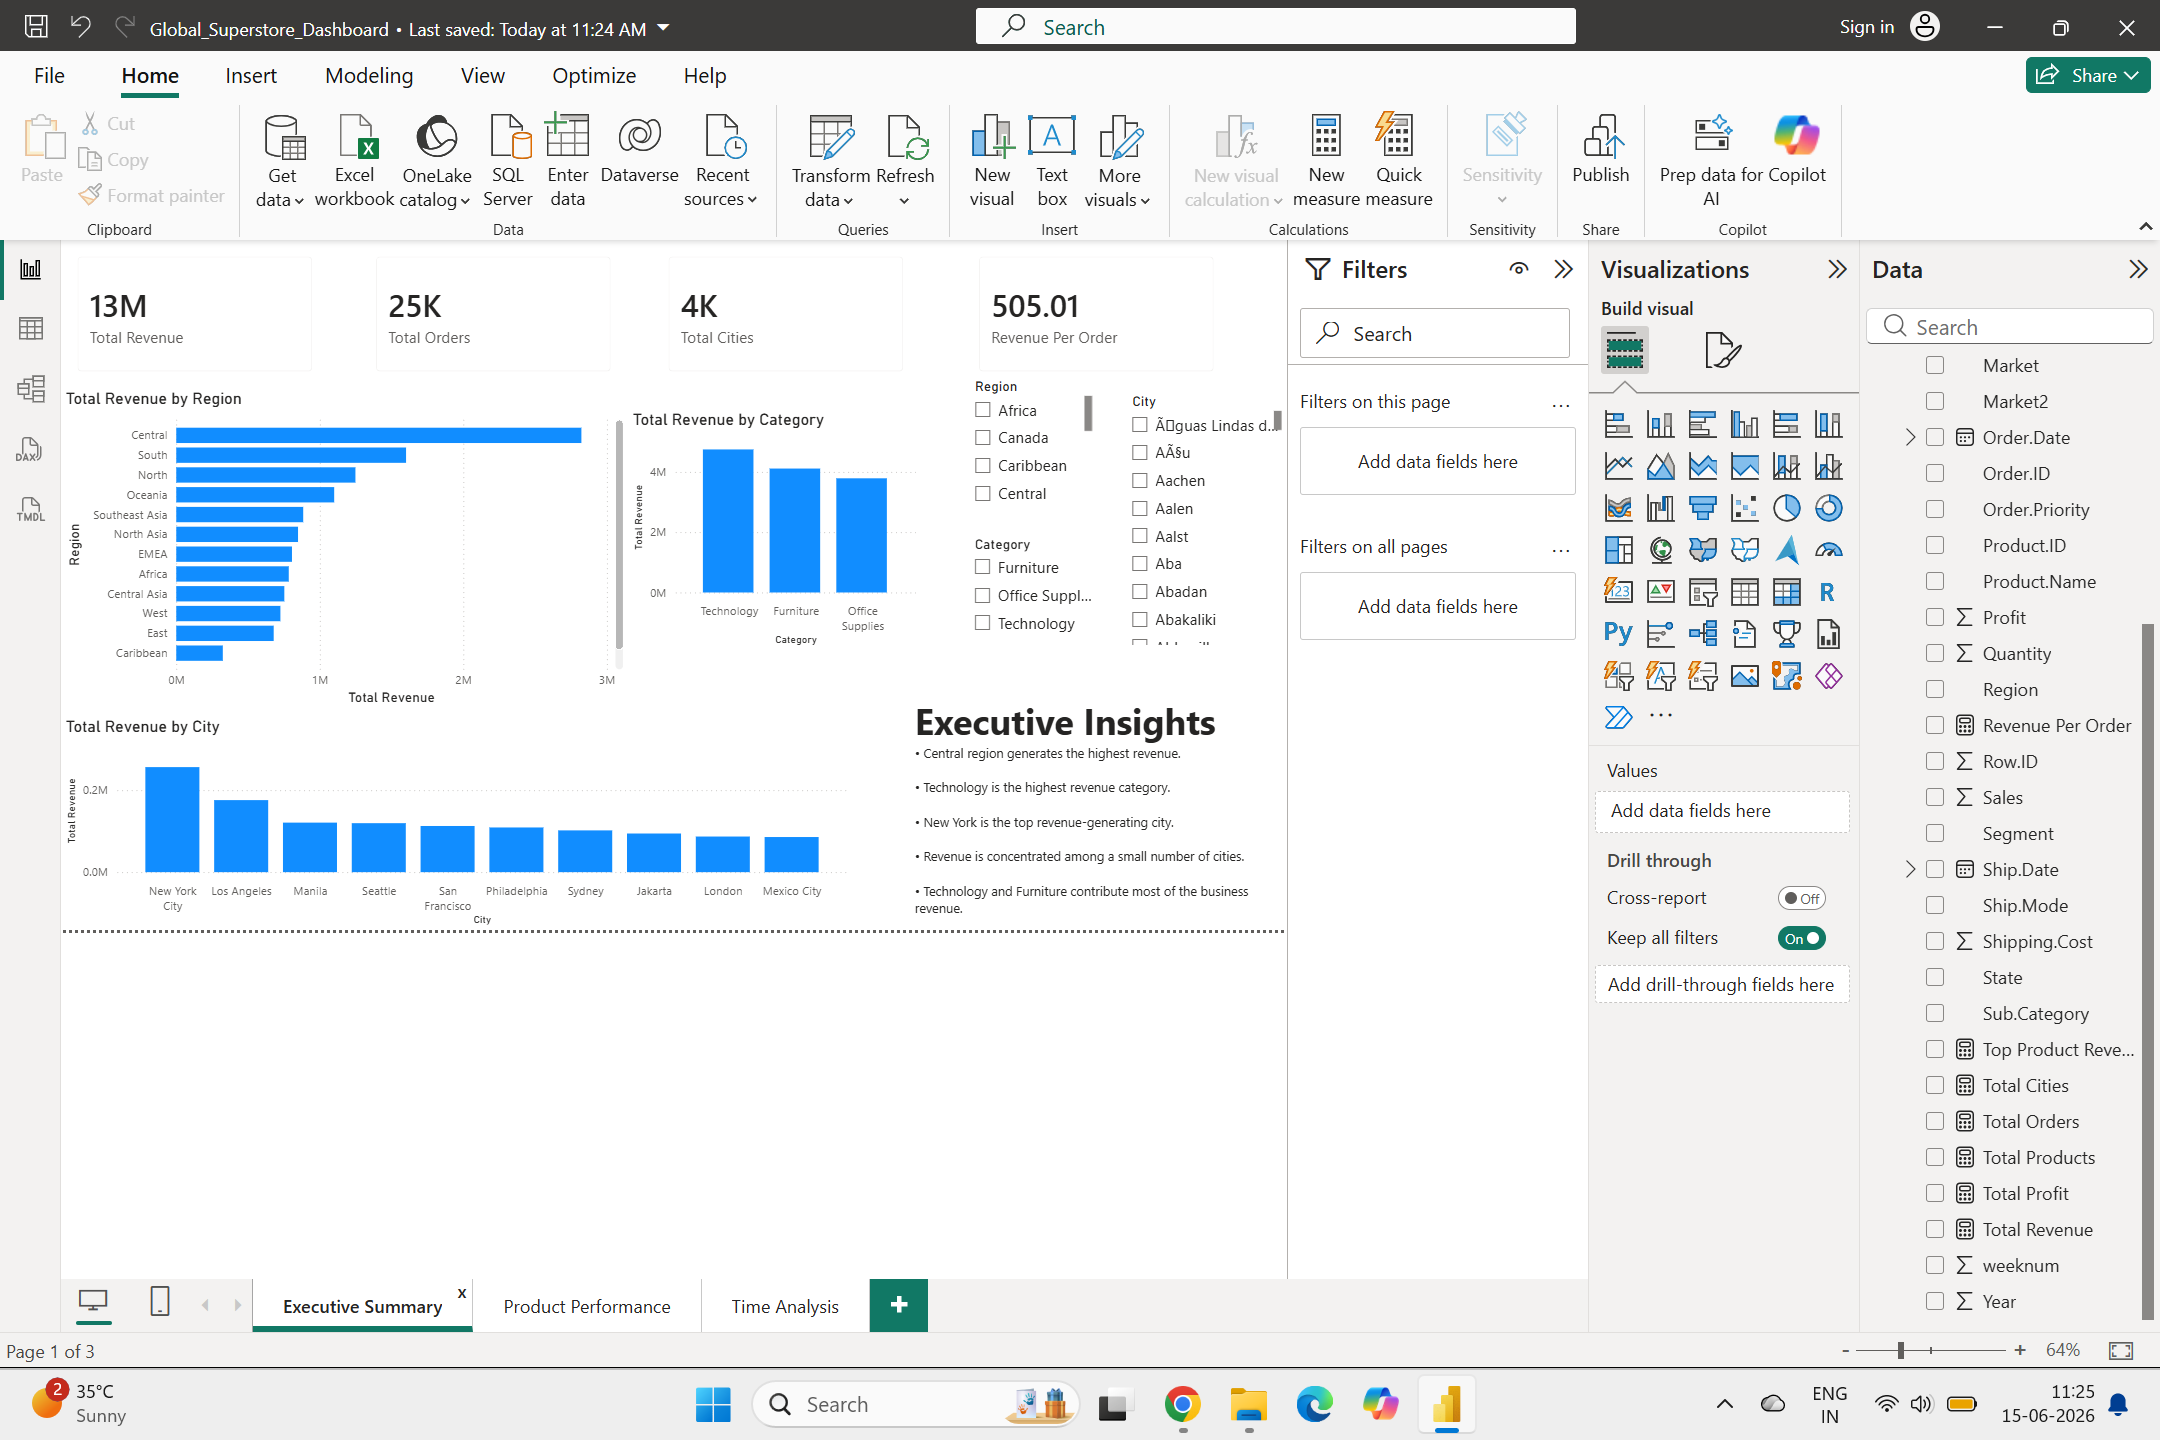

The dashboard page shown, as its layout file describes it:
{"tool":"powerbi","page":{"name":"Executive Summary","canvas":[1280,720],"ordinal":0},"visuals":[{"type":"cardVisual","fields":{"Data":["superstore.Total Revenue"]},"box":[0,0,279.7,154.4],"z":0},{"type":"cardVisual","fields":{"Data":["superstore.Total Orders"]},"box":[311.8,0,279.7,154.4],"z":1000},{"type":"cardVisual","fields":{"Data":["superstore.Total Cities"]},"box":[617.6,0,279.7,154.4],"z":2000},{"type":"cardVisual","fields":{"Data":["superstore.Revenue Per Order"]},"box":[941.7,0,279.7,154.4],"z":3000},{"type":"clusteredBarChart","fields":{"Category":["superstore.Region"],"Y":["superstore.Total Revenue"]},"box":[0,154.4,591.6,334.8],"z":4000},{"type":"clusteredColumnChart","fields":{"Category":["superstore.Category"],"Y":["superstore.Total Revenue"]},"box":[591.6,177.3,305.7,250.7],"z":5000},{"type":"clusteredColumnChart","fields":{"Category":["superstore.City"],"Y":["superstore.Total Revenue"]},"box":[0,498.3,825.5,221.7],"z":6000},{"type":"slicer","fields":{"Values":["superstore.City"]},"box":[1105.7,155,173.8,272.5],"z":7000},{"type":"slicer","fields":{"Values":["superstore.Region"]},"box":[941.7,139.1,140.6,146.8],"z":8000},{"type":"slicer","fields":{"Values":["superstore.Category"]},"box":[941.7,304.2,140.6,123.8],"z":9000},{"type":"textbox","box":[886.6,470.8,392.9,249.2],"z":10000}]}

Visuals, with their boxes on the page's 1280x720 design canvas (x1, y1, x2, y2). These are canvas units, not pixel positions in the 2160x1440 screenshot, which may show the page scaled, cropped or inside an application window:
cardVisual - superstore.Total Revenue: {"left": 0, "top": 0, "right": 280, "bottom": 154}
cardVisual - superstore.Total Orders: {"left": 312, "top": 0, "right": 592, "bottom": 154}
cardVisual - superstore.Total Cities: {"left": 618, "top": 0, "right": 897, "bottom": 154}
cardVisual - superstore.Revenue Per Order: {"left": 942, "top": 0, "right": 1221, "bottom": 154}
clusteredBarChart - superstore.Region x superstore.Total Revenue: {"left": 0, "top": 154, "right": 592, "bottom": 489}
clusteredColumnChart - superstore.Category x superstore.Total Revenue: {"left": 592, "top": 177, "right": 897, "bottom": 428}
clusteredColumnChart - superstore.City x superstore.Total Revenue: {"left": 0, "top": 498, "right": 826, "bottom": 720}
slicer - superstore.City: {"left": 1106, "top": 155, "right": 1280, "bottom": 428}
slicer - superstore.Region: {"left": 942, "top": 139, "right": 1082, "bottom": 286}
slicer - superstore.Category: {"left": 942, "top": 304, "right": 1082, "bottom": 428}
textbox: {"left": 887, "top": 471, "right": 1280, "bottom": 720}
